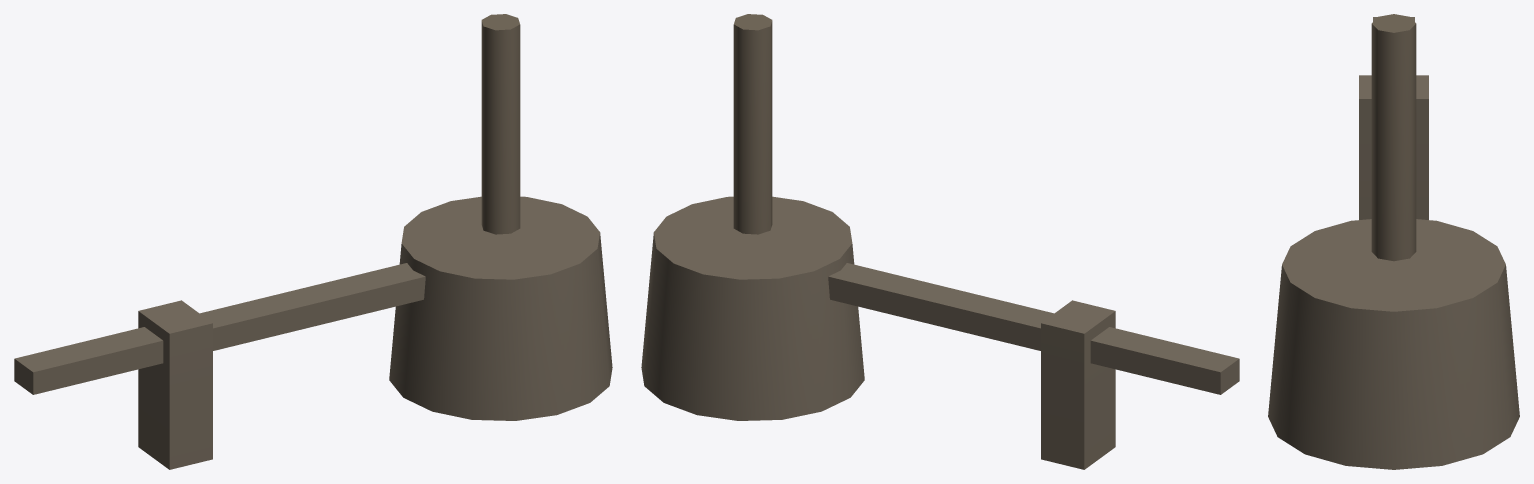
File: tbaal.glb
3 renders of one model, left to right at view 1: azimuth 30°, elevation 25°; view 2: azimuth 150°, elevation 25°; view 3: azimuth 270°, elevation 25°, orthographic. The views are drawn at different scales.
Bounding box in the file's own units: 2.65 × 1.55 × 0.9.
